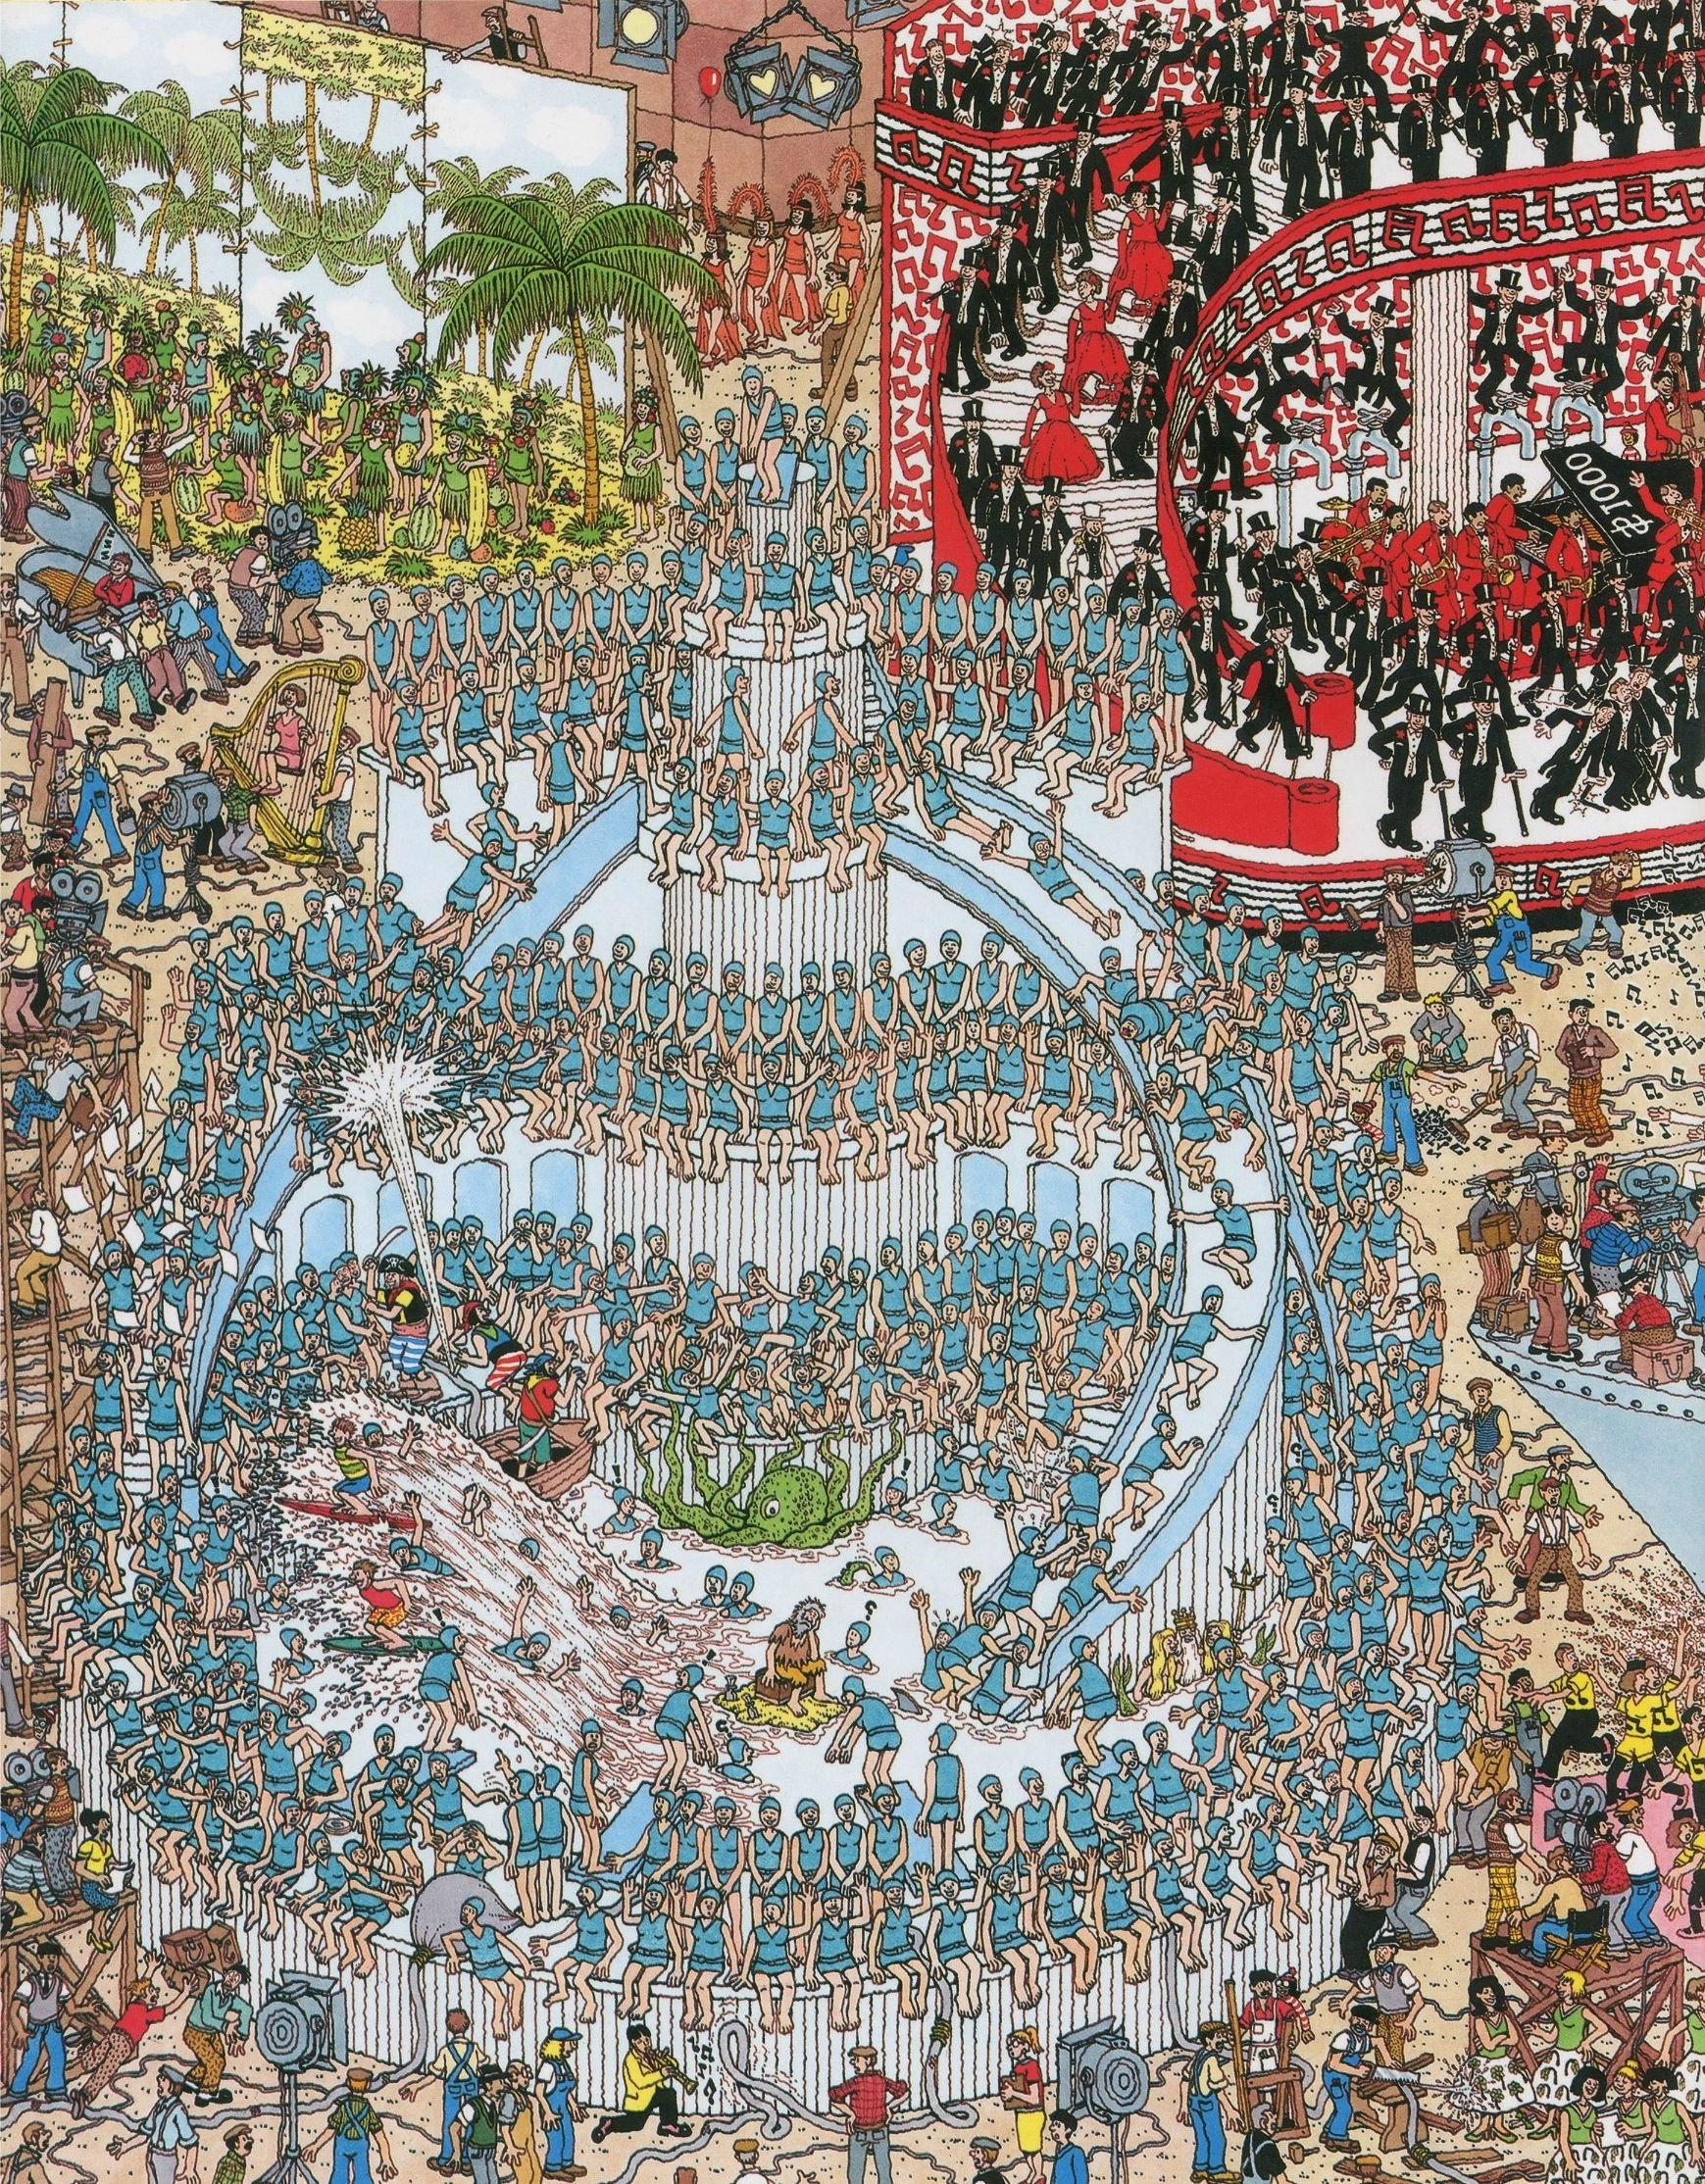waldos: (30, 1698, 64, 1750)
